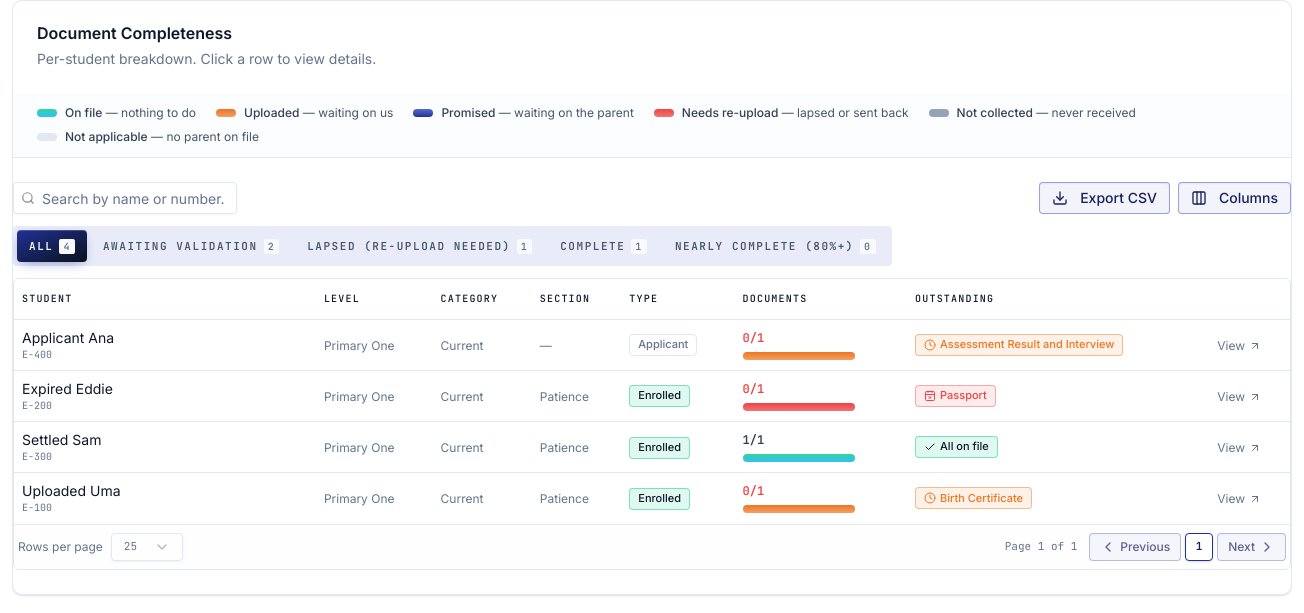
it: P-Files completeness table — Needs review filter › finds that student by name through the search box
Type "Settled" into the field with placeholder "Search by name or number…".
click(125, 198); type("Settled")  # box [13, 182, 237, 214]
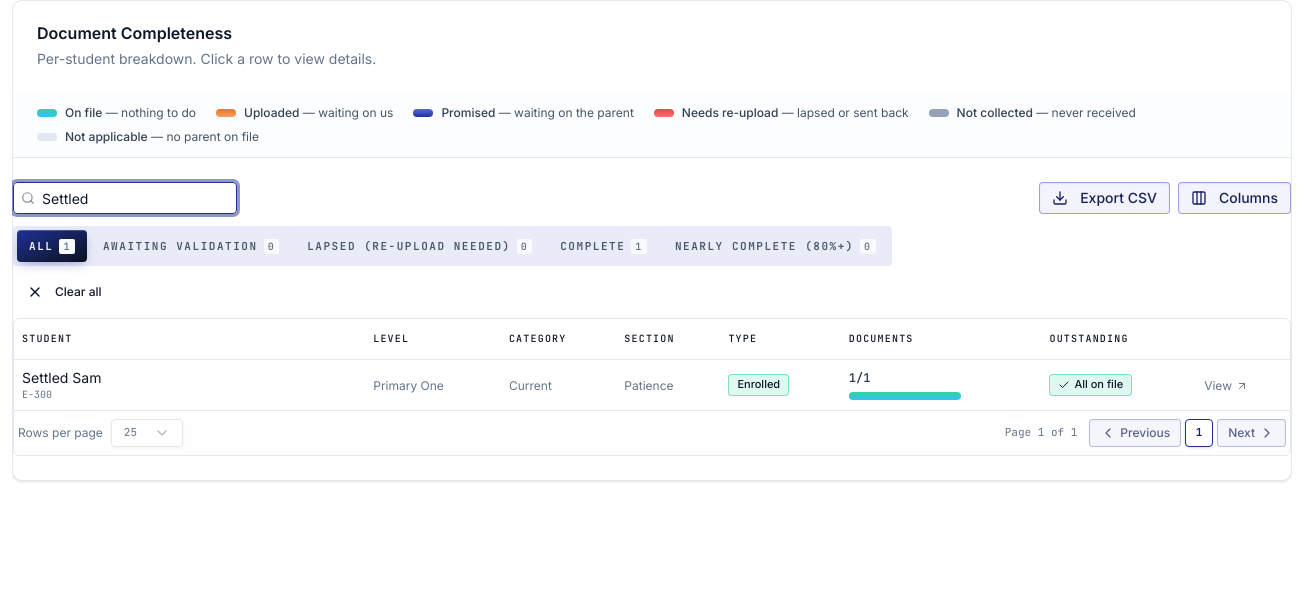
Expected: the table shows "Settled Sam", [22, 368, 102, 386]
Expected: the text "Uploaded Uma" is gone
